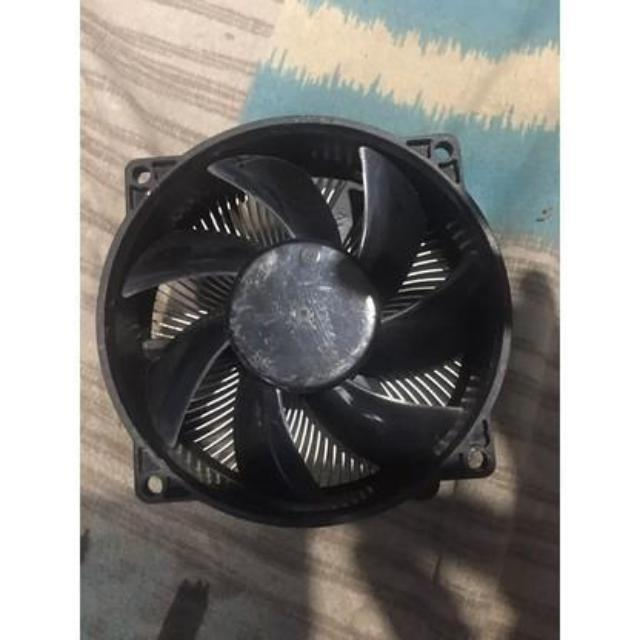CPU_Fan: (98, 109, 508, 528)
